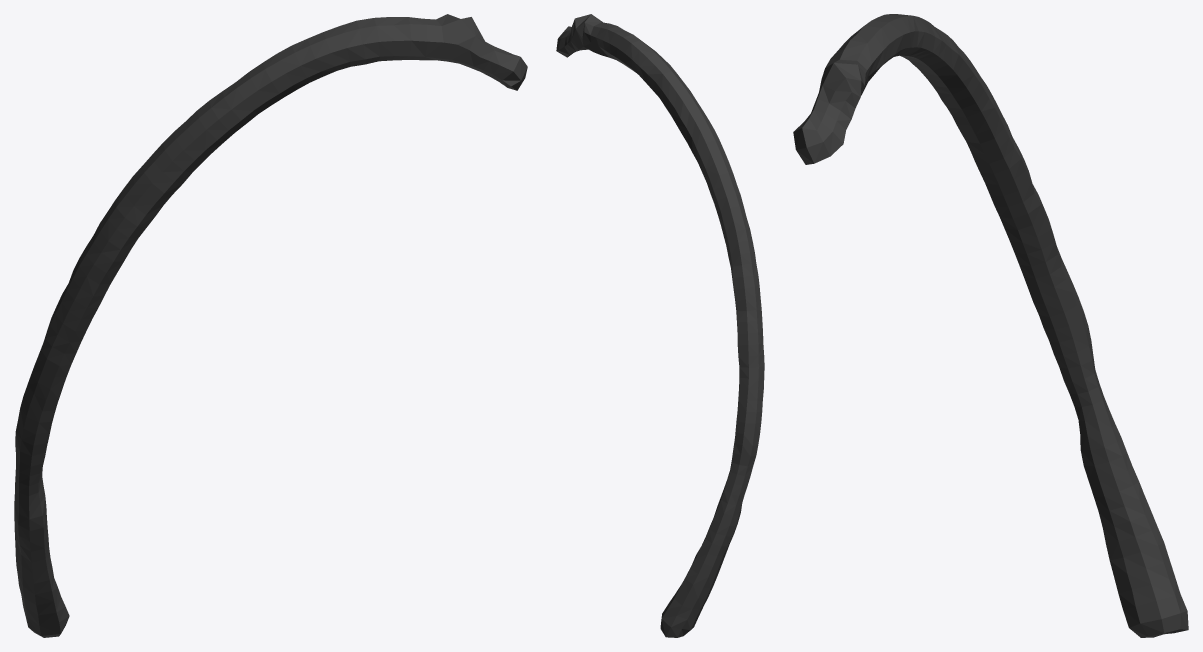
Rendered from Rib_9_R.glb.
3 renders of one model, left to right at view 1: azimuth 30°, elevation 25°; view 2: azimuth 150°, elevation 25°; view 3: azimuth 270°, elevation 25°, orthographic. The views are drawn at different scales.
Visible parts, largest first — view 1: Rib_9_R; view 2: Rib_9_R; view 3: Rib_9_R.
Part boxes in pixels (<box>): Rib_9_R: <box>14,14,527,637</box>; Rib_9_R: <box>556,14,764,637</box>; Rib_9_R: <box>793,14,1188,637</box>.
Bounding box in the file's own units: 4.73 × 7.71 × 3.86.
Materials: 1 (1 with a texture image).
